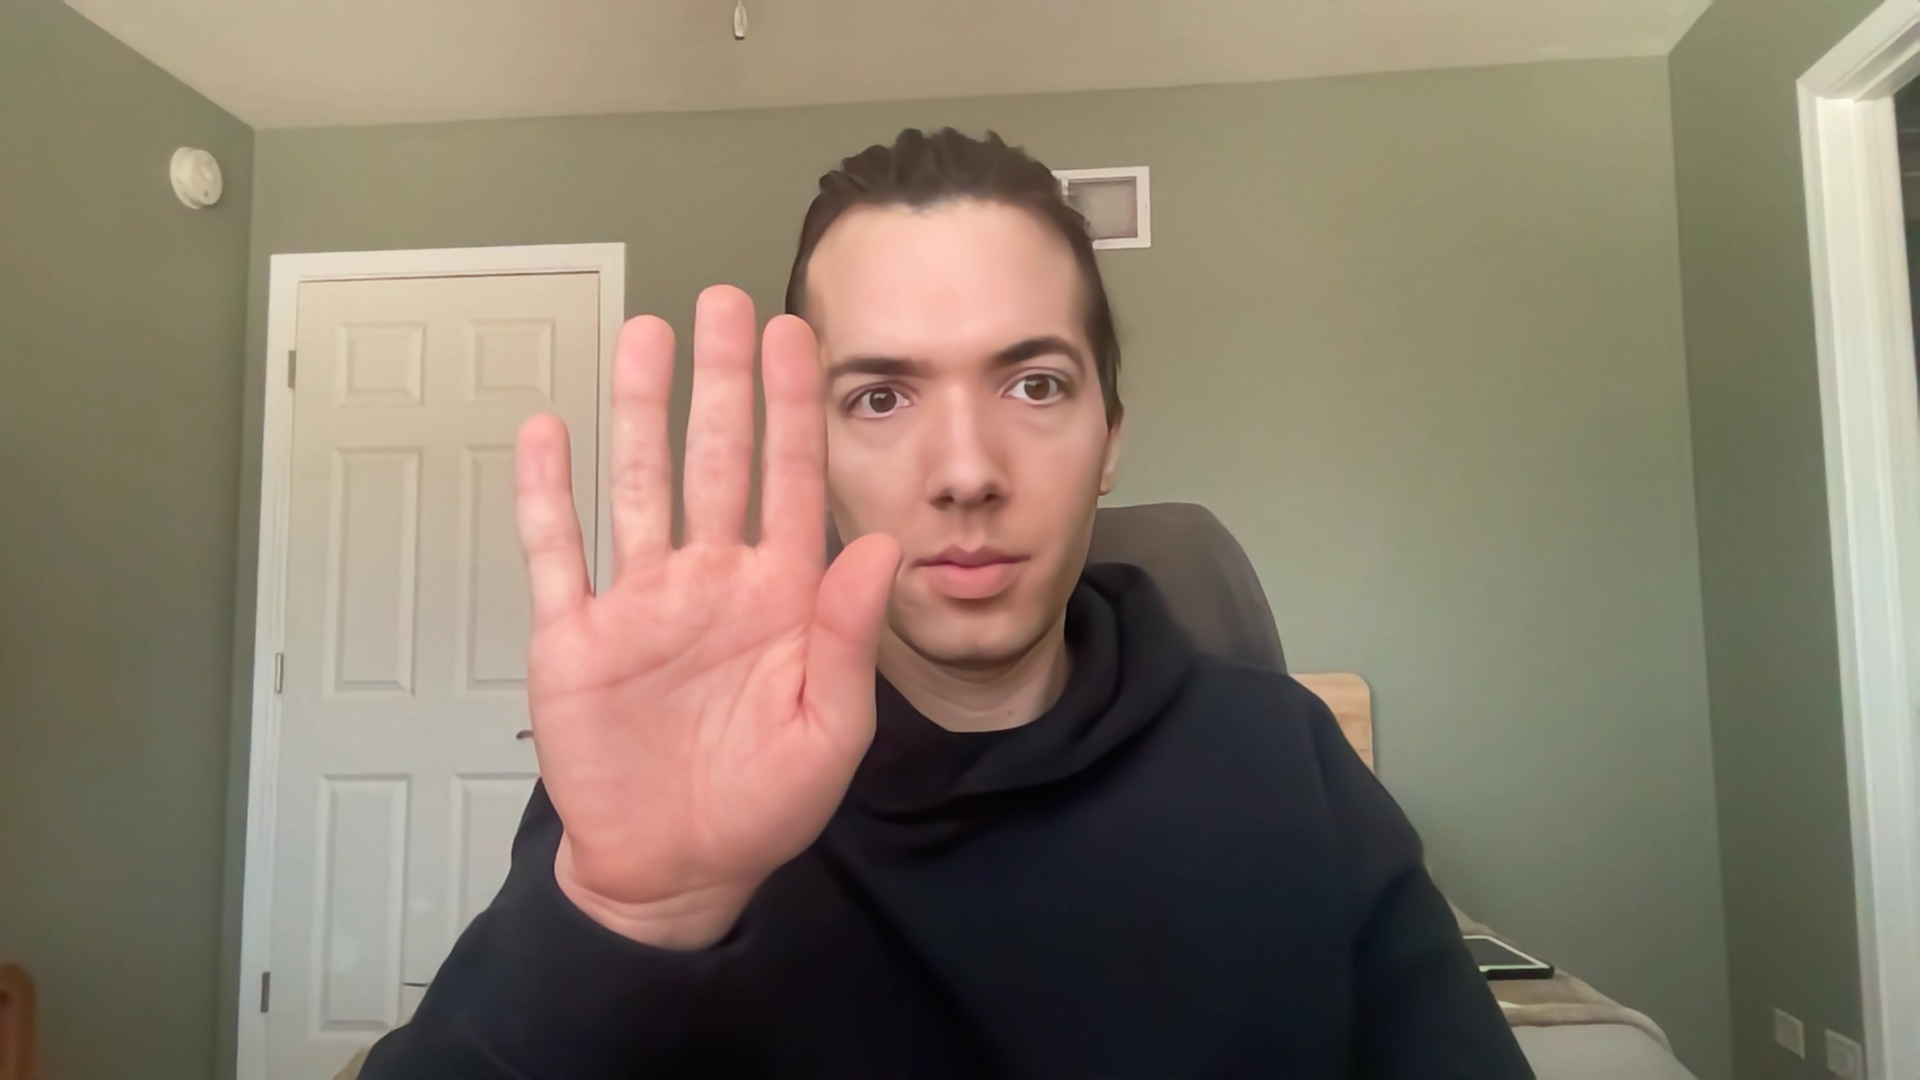Hello: (488, 274, 924, 960)
